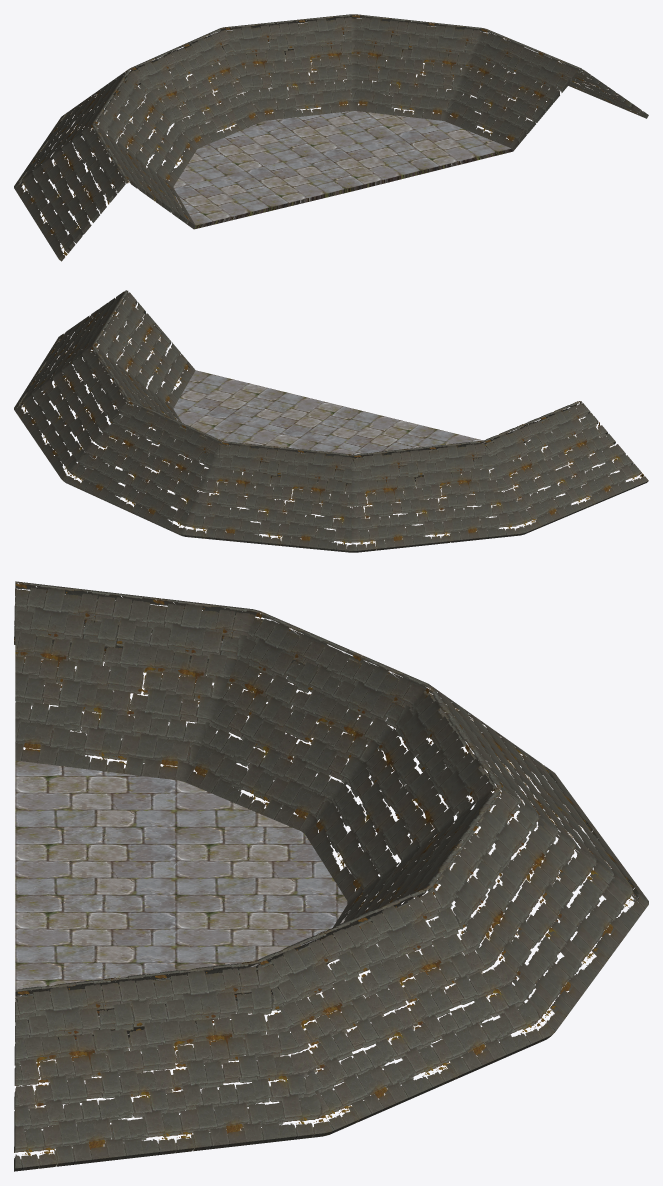
3 renders of one model, top to bottom at view 1: azimuth 30°, elevation 25°; view 2: azimuth 150°, elevation 25°; view 3: azimuth 270°, elevation 25°, orthographic. The views are drawn at different scales.
Visible parts, largest first — view 1: SM_Greathall_Roof_Unique_01_LOD0; view 2: SM_Greathall_Roof_Unique_01_LOD0; view 3: SM_Greathall_Roof_Unique_01_LOD0.
Boxes of the visible parts, bbox=[...] form: SM_Greathall_Roof_Unique_01_LOD0: bbox=[14, 14, 648, 261]; SM_Greathall_Roof_Unique_01_LOD0: bbox=[14, 290, 648, 552]; SM_Greathall_Roof_Unique_01_LOD0: bbox=[14, 581, 648, 1171].
Bounding box in the file's own units: 31.2 × 3.38 × 15.76.
2 materials, 2 textured.
